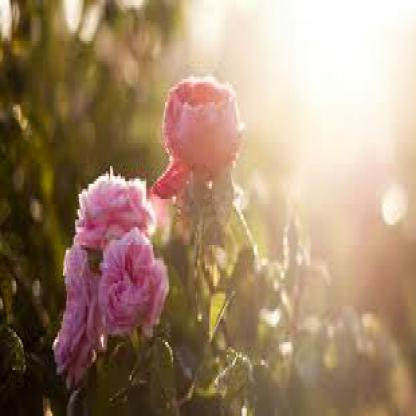Rose-Mawar: (55, 160, 169, 392), (161, 65, 244, 192)
